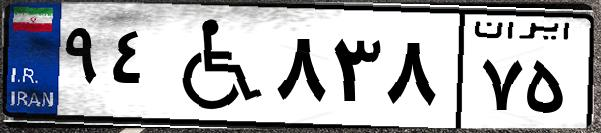3: (330, 28, 385, 110)
4: (110, 28, 158, 98)
5: (525, 38, 570, 115)
7: (475, 38, 525, 113)
8: (270, 28, 330, 110), (385, 28, 445, 110)
9: (57, 26, 110, 100)
ژ (معلولین و جانبازان): (158, 12, 270, 120)
